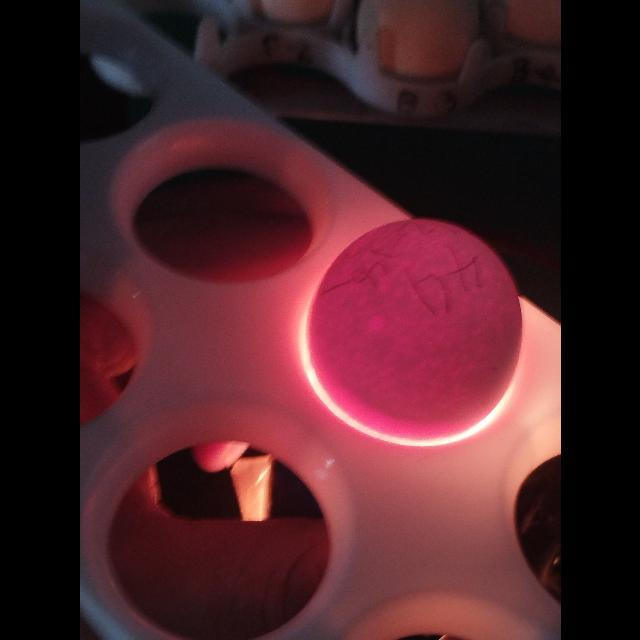Infertile: (302, 214, 524, 446)
